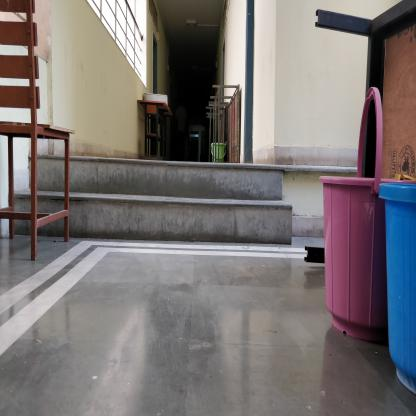stairs: (75, 154, 284, 252)
